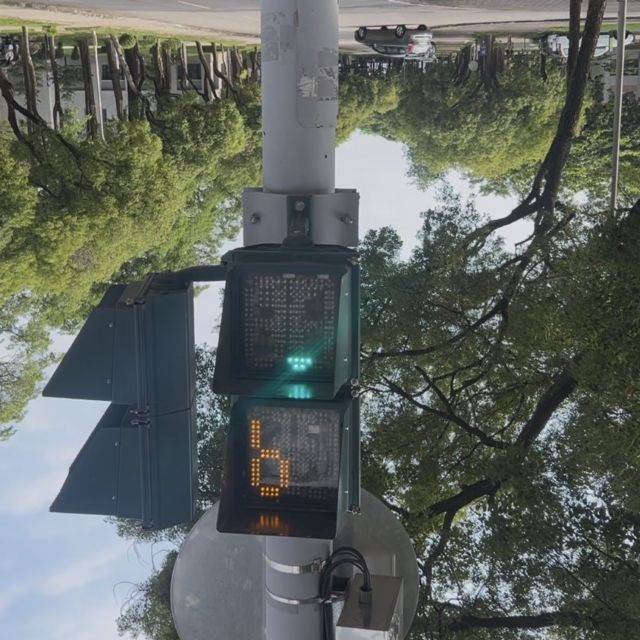green_light: (222, 252, 359, 538)
